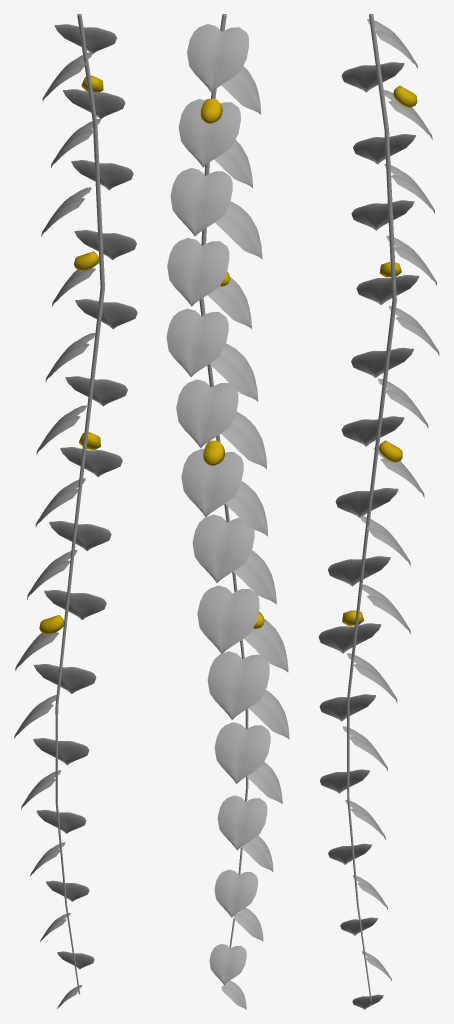
Rendered from PlantaColgante.fbx.
3 views of the same model, side by side, from view 1: azimuth 30°, elevation 25°; view 2: azimuth 210°, elevation 25°; view 3: azimuth 330°, elevation 25° (orthographic).
Parts seen in each view (by area): view 1: pCylinder5, pasted__pCube1, pasted__pCube12, pasted__pCube14, pasted__pCube16, pasted__pCube18, pasted__pCube20, pasted__pCube22, pasted__pCube28, pasted__pCube24, pasted__pCube26, pasted__pCube3 (+16 smaller); view 2: pasted__pCube20, pasted__pCube22, pasted__pCube24, pasted__pCube28, pasted__pCube12, pasted__pCube1, pasted__pCube18, pasted__pCube14, pasted__pCube16, pasted__pCube26, pasted__pCube3, pasted__pCube5 (+19 smaller); view 3: pCylinder5, pasted__pCube11, pasted__pCube13, pasted__pCube17, pasted__pCube23, pasted__pCube15, pasted__pCube27, pasted__pCube19, pasted__pCube21, pasted__pCube25, pasted__pCube2, pasted__pCube4 (+16 smaller).
Boxes of the visible parts, x1,y1,x2,y2 form: pCylinder5: (55,14,104,994); pasted__pCube1: (34,664,96,693); pasted__pCube12: (44,590,106,619); pasted__pCube14: (49,521,111,550); pasted__pCube16: (60,447,122,476); pasted__pCube18: (65,376,127,406); pasted__pCube20: (75,299,137,329); pasted__pCube22: (74,230,136,260); pasted__pCube28: (54,24,116,54); pasted__pCube24: (71,160,133,190); pasted__pCube26: (63,89,125,118); pasted__pCube3: (33,738,89,765); pasted__pCube20: (166,308,228,376); pasted__pCube22: (167,238,229,306); pasted__pCube24: (170,168,232,236); pasted__pCube28: (187,24,249,92); pasted__pCube12: (197,585,259,653); pasted__pCube1: (207,651,269,719); pasted__pCube18: (176,379,238,448); pasted__pCube14: (192,514,254,582); pasted__pCube16: (181,448,243,517); pasted__pCube26: (178,99,240,167); pasted__pCube3: (214,722,270,783); pasted__pCube5: (217,795,267,850); pCylinder5: (347,14,396,1001); pasted__pCube11: (318,623,381,653); pasted__pCube13: (328,556,390,586); pasted__pCube17: (341,416,404,446); pasted__pCube23: (351,200,414,230); pasted__pCube15: (335,488,398,518); pasted__pCube27: (341,62,404,92); pasted__pCube19: (351,347,413,378); pasted__pCube21: (356,275,419,304); pasted__pCube25: (353,134,415,164); pasted__pCube2: (319,694,375,721); pasted__pCube4: (320,769,369,793).
Size of the model in its own units: 0.6828 by 5.69 by 0.3649.
